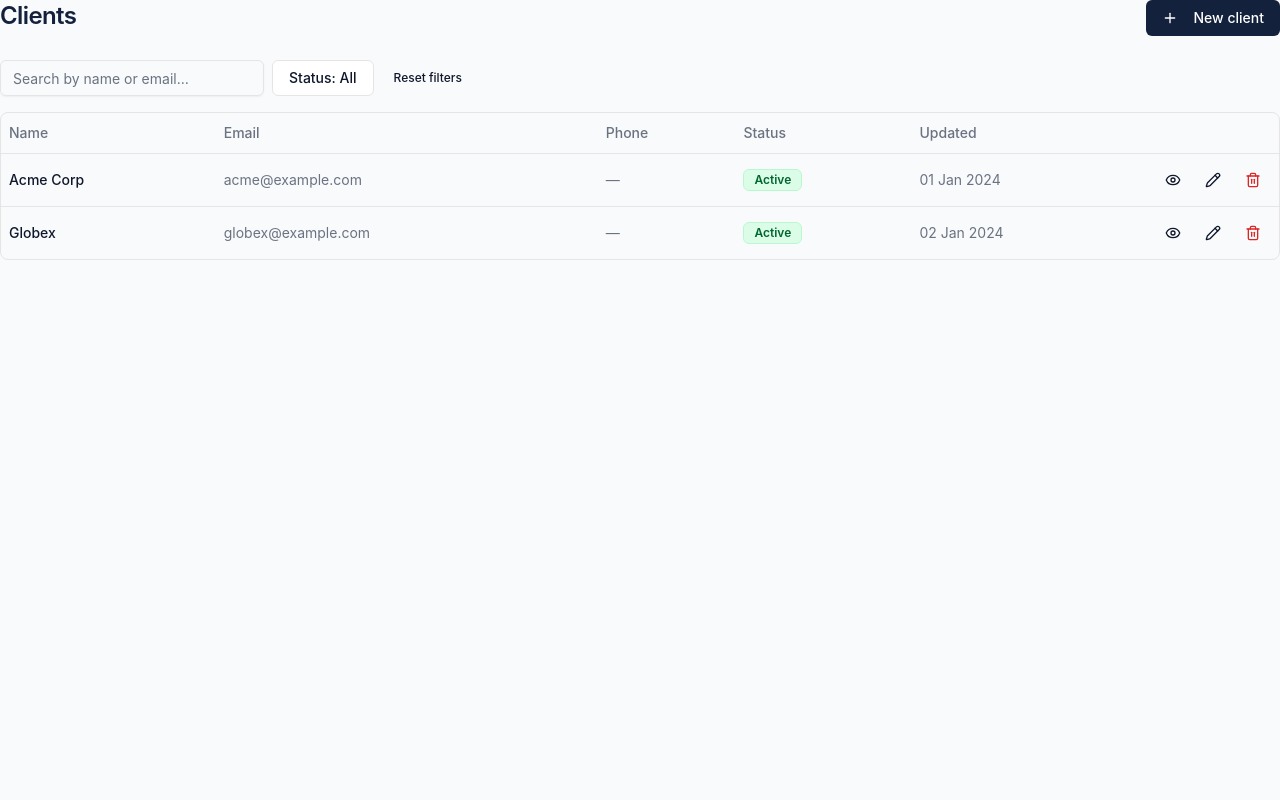
Scenario: ClientsPage › closes the sheet when Cancel is clicked
The width and height of the screenshot is (1280, 800).
Click the button with test id "btn-new-client".
click(1213, 18)  # box x1=1146 y1=0 x2=1279 y2=36
(page scrolled)
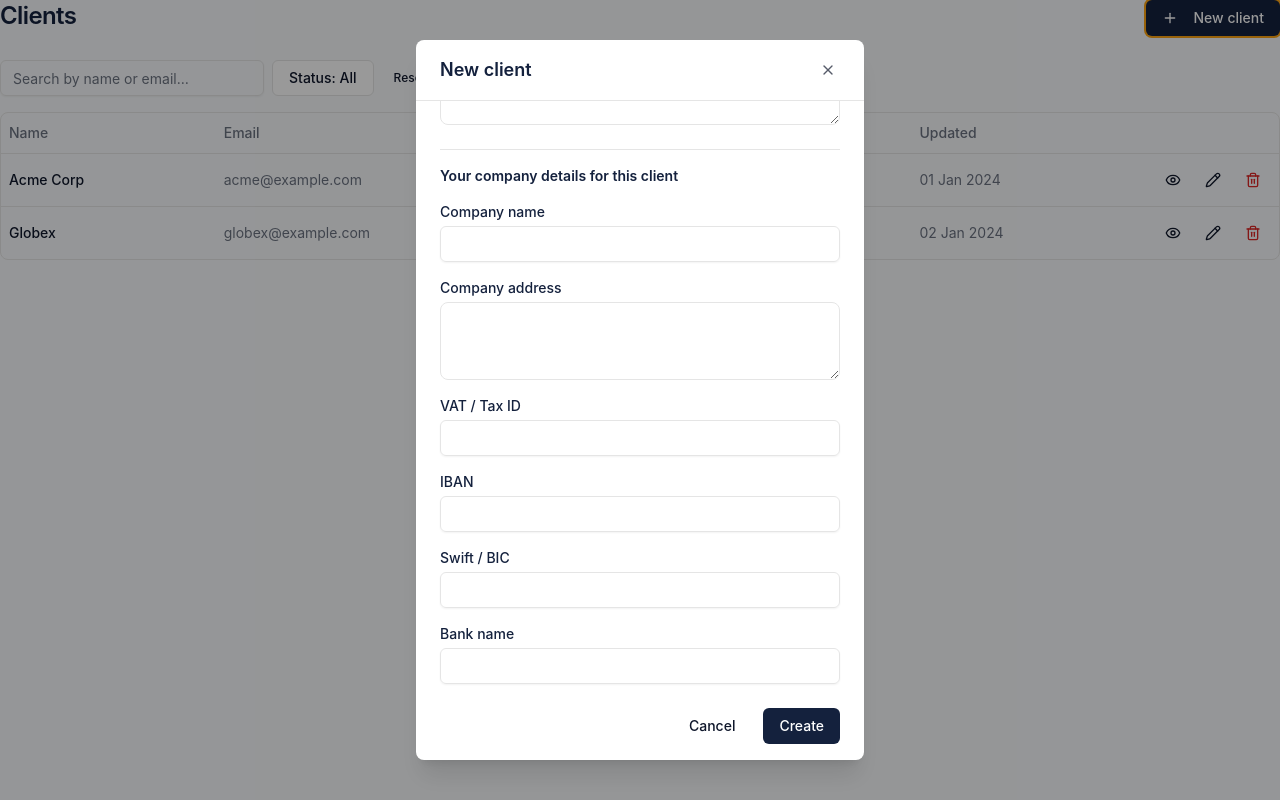
Click the button "Cancel".
click(712, 726)  # box x1=673 y1=708 x2=751 y2=744
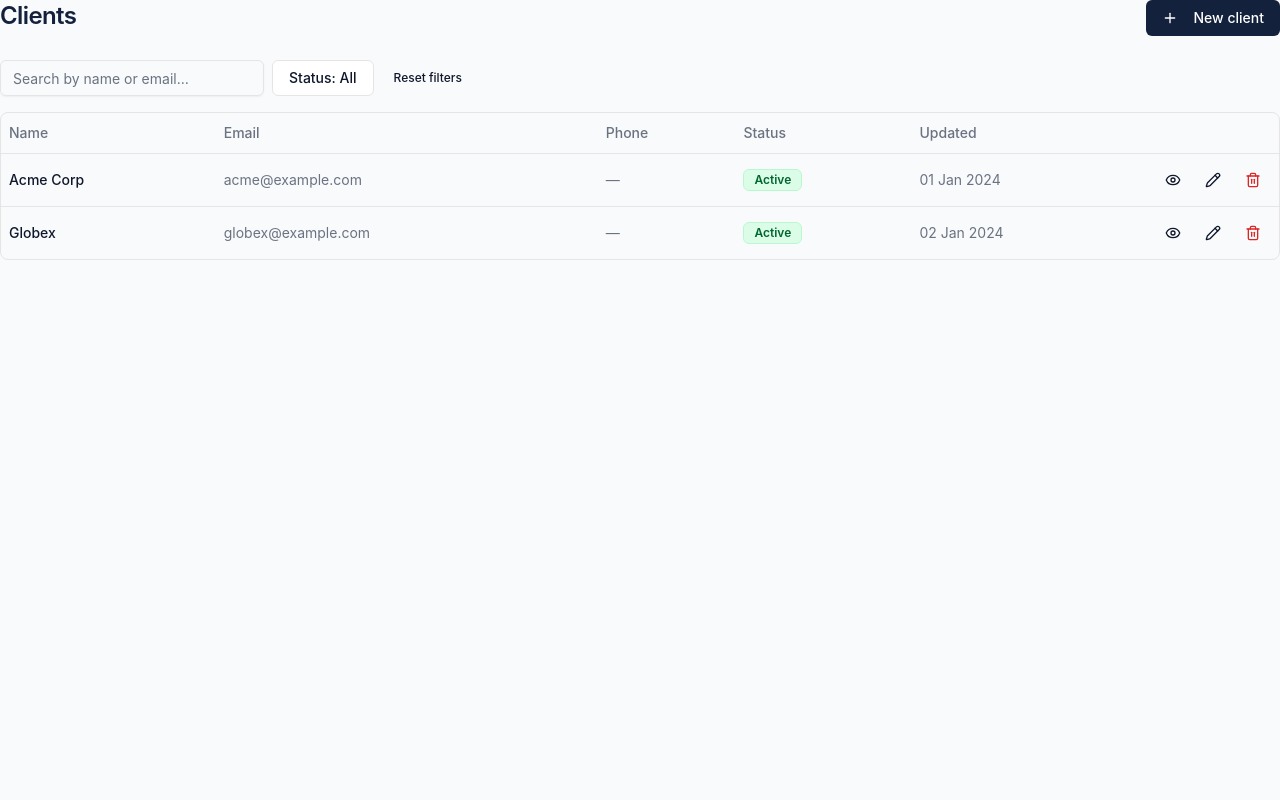
expect the dialog with test id "client-form-sheet" is gone: met
